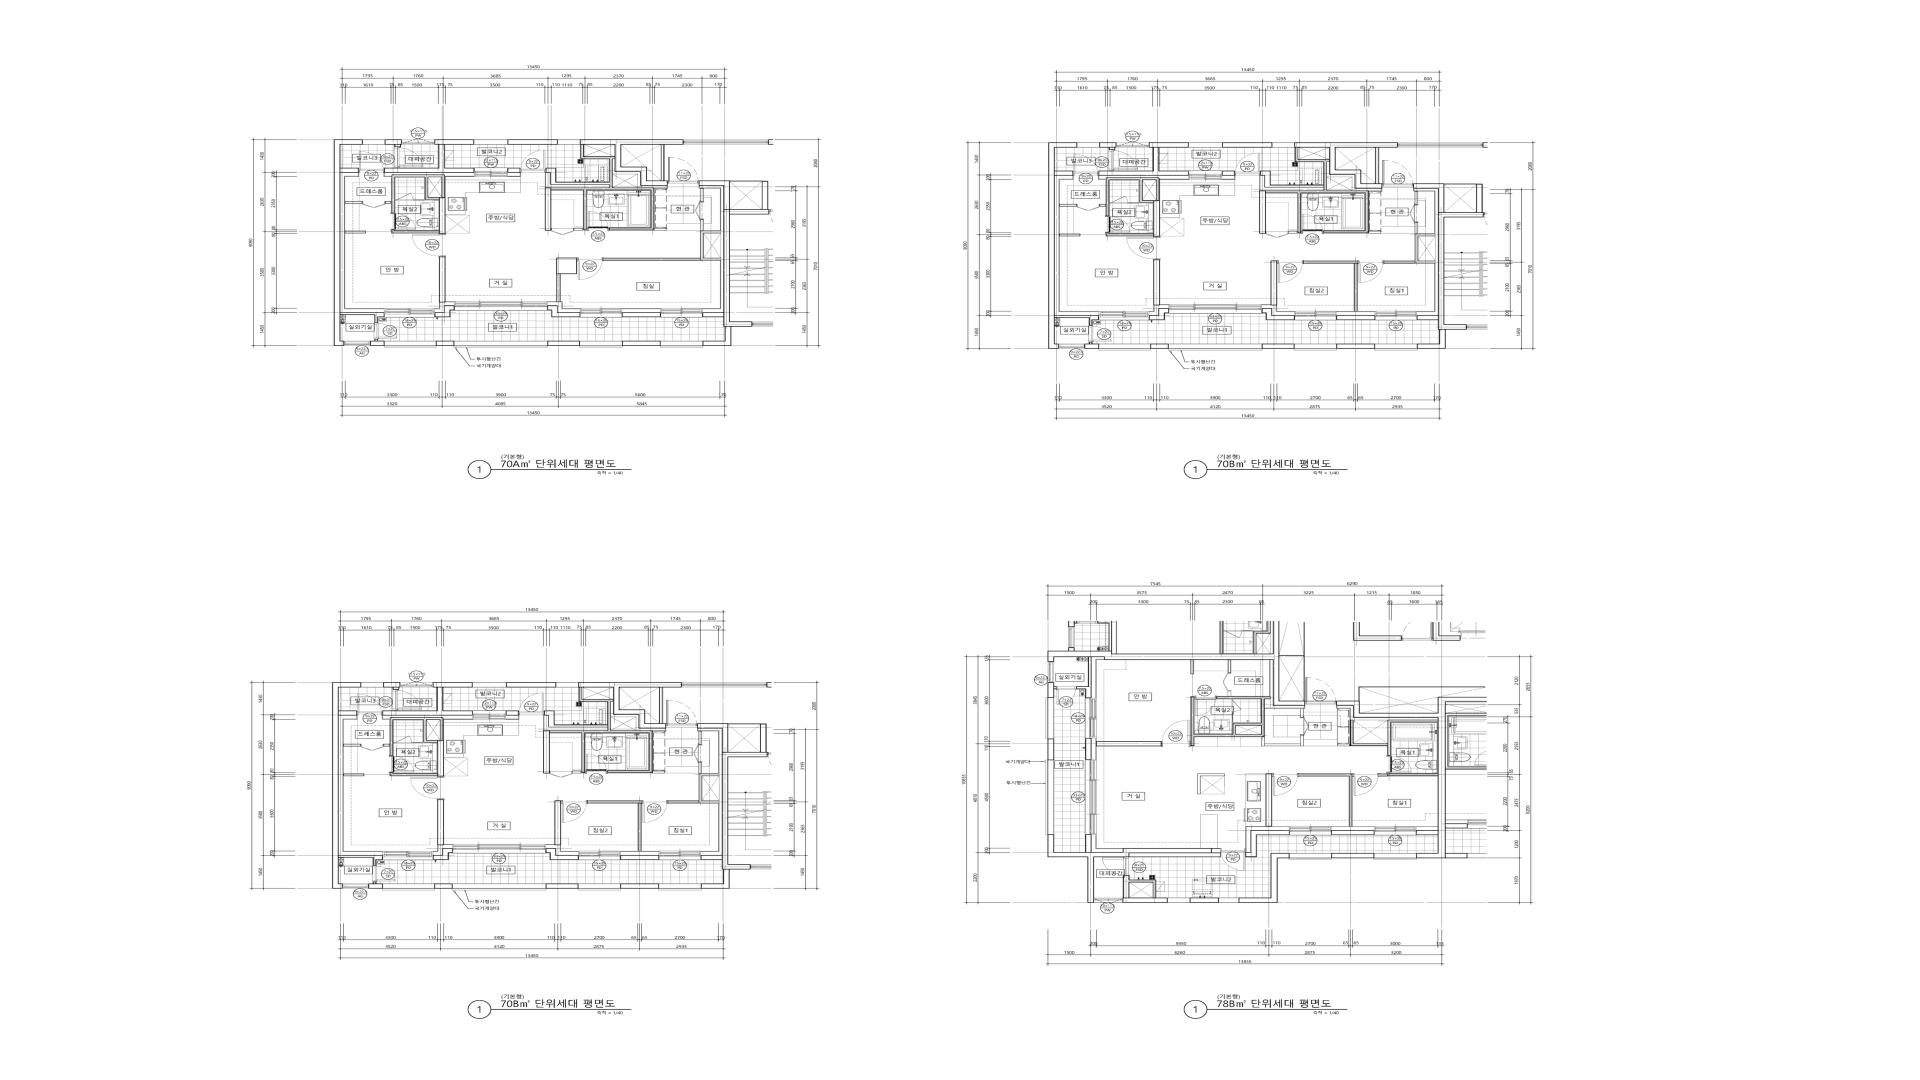door: (1382, 160, 1414, 188), (666, 700, 697, 727), (667, 157, 699, 183), (410, 776, 444, 800), (1305, 677, 1336, 703), (1127, 236, 1160, 260), (412, 234, 445, 257), (1162, 720, 1191, 746), (392, 690, 421, 711), (394, 147, 423, 168), (1109, 150, 1138, 171), (1220, 848, 1246, 871), (1277, 261, 1304, 283), (1352, 774, 1379, 796), (561, 801, 587, 823), (1358, 261, 1384, 283), (577, 258, 603, 280), (520, 150, 546, 172), (1073, 154, 1099, 176), (1272, 774, 1298, 796), (357, 694, 382, 716), (642, 801, 667, 823), (519, 693, 544, 715), (1235, 153, 1260, 175), (358, 151, 384, 172), (1102, 857, 1129, 875), (1301, 214, 1324, 233), (585, 754, 607, 773), (587, 211, 609, 230), (1194, 697, 1216, 716), (1388, 756, 1411, 774), (390, 756, 414, 773), (1106, 216, 1130, 233), (392, 213, 415, 230), (374, 323, 397, 339), (373, 866, 395, 882), (1089, 326, 1111, 342), (695, 201, 704, 221), (1300, 717, 1309, 735), (549, 771, 572, 778), (1077, 204, 1100, 211), (551, 228, 574, 235), (362, 201, 385, 208), (361, 744, 383, 751), (1266, 231, 1288, 238), (693, 745, 702, 762), (1110, 196, 1128, 204), (1410, 205, 1418, 223), (395, 193, 413, 201), (1223, 673, 1231, 691), (393, 736, 412, 743), (1232, 699, 1241, 712)
wall: (1048, 621, 1305, 706), (1336, 697, 1446, 858), (1259, 142, 1398, 234), (543, 682, 682, 773), (1048, 834, 1220, 903), (697, 723, 768, 889), (1414, 184, 1484, 349), (699, 181, 769, 346), (332, 682, 383, 889), (1048, 142, 1099, 349), (334, 140, 384, 346), (545, 145, 654, 231), (1055, 176, 1099, 316), (340, 173, 384, 313), (339, 716, 383, 855), (603, 220, 720, 261), (580, 140, 683, 186), (1191, 697, 1271, 746), (390, 717, 444, 776), (697, 729, 722, 855), (1106, 178, 1160, 236), (382, 682, 472, 716), (384, 139, 474, 173), (1099, 142, 1189, 176), (1414, 189, 1438, 315), (699, 186, 723, 312), (1298, 774, 1352, 827), (587, 801, 642, 851), (1304, 261, 1358, 311), (1239, 853, 1289, 903), (1264, 660, 1305, 717), (391, 175, 445, 213), (1327, 162, 1382, 191), (613, 159, 667, 188), (611, 702, 666, 730), (1336, 706, 1438, 720), (1123, 875, 1168, 903), (1246, 830, 1290, 857), (1246, 826, 1290, 852), (1259, 176, 1324, 191), (543, 715, 607, 730), (1197, 774, 1225, 794), (1091, 835, 1123, 852), (1091, 657, 1104, 698), (1262, 735, 1304, 746), (702, 776, 719, 801), (1418, 236, 1435, 261), (1262, 308, 1295, 320), (546, 848, 578, 860), (1098, 176, 1189, 180), (1129, 853, 1220, 857), (547, 306, 580, 317), (382, 716, 472, 720), (1129, 883, 1153, 898), (384, 173, 474, 177), (546, 844, 578, 855), (556, 258, 577, 274), (1096, 741, 1162, 746), (1262, 305, 1295, 315), (547, 302, 580, 312), (437, 800, 444, 845), (1153, 260, 1160, 305), (1266, 774, 1272, 826), (554, 801, 561, 845), (507, 139, 558, 145), (1222, 142, 1272, 148), (426, 720, 440, 740), (439, 257, 445, 303), (1271, 261, 1277, 306), (1143, 180, 1156, 200), (506, 682, 556, 687), (433, 848, 453, 860), (1149, 308, 1169, 320), (439, 197, 445, 234), (433, 844, 453, 855), (1331, 830, 1374, 835), (1332, 853, 1374, 858), (435, 306, 454, 317), (1149, 305, 1169, 315), (620, 855, 659, 860), (1336, 315, 1375, 320), (622, 312, 661, 317), (621, 884, 659, 889), (1337, 344, 1375, 349), (622, 341, 660, 346), (435, 302, 454, 312), (1331, 826, 1374, 830), (546, 884, 578, 889), (1262, 344, 1294, 349), (548, 341, 580, 346), (620, 851, 659, 855), (1336, 311, 1375, 315), (622, 308, 661, 312), (1085, 738, 1092, 760), (1190, 898, 1219, 903), (1048, 682, 1057, 698), (1375, 148, 1379, 184), (392, 230, 439, 233), (383, 682, 400, 690), (1099, 142, 1116, 150), (1048, 739, 1054, 760), (385, 140, 402, 147), (556, 274, 560, 302), (1091, 738, 1096, 760), (659, 687, 662, 723), (508, 168, 520, 177), (661, 145, 664, 181), (1084, 342, 1099, 349), (368, 882, 382, 889), (370, 339, 384, 346), (1384, 261, 1415, 264), (434, 884, 452, 889), (436, 341, 454, 346), (1416, 826, 1438, 830), (1151, 344, 1168, 349), (506, 711, 519, 716), (1222, 171, 1235, 176), (667, 801, 699, 803), (700, 188, 704, 202), (506, 716, 519, 720), (1222, 176, 1235, 180), (345, 201, 362, 204), (345, 231, 366, 233), (1191, 660, 1194, 674), (1228, 660, 1231, 673), (1444, 184, 1477, 185), (574, 228, 584, 231), (652, 771, 665, 773), (1369, 231, 1381, 233), (654, 228, 666, 230), (1338, 744, 1350, 746), (383, 744, 390, 747), (385, 201, 392, 204), (572, 771, 582, 773), (1288, 231, 1298, 233), (1100, 204, 1106, 207), (1228, 691, 1231, 697), (1128, 203, 1139, 204), (413, 200, 424, 201), (412, 742, 422, 743), (1232, 712, 1233, 722), (728, 724, 760, 724), (730, 181, 762, 181)
window: (454, 301, 547, 311), (453, 844, 546, 853), (1085, 760, 1096, 835), (1169, 305, 1262, 313), (1168, 344, 1262, 351), (454, 341, 548, 348), (1046, 760, 1054, 835), (452, 884, 546, 890), (384, 308, 435, 317), (383, 851, 433, 860), (1099, 311, 1149, 320), (1085, 698, 1096, 738), (659, 851, 701, 860), (578, 851, 620, 860), (1375, 311, 1417, 320), (1295, 311, 1337, 320), (580, 308, 622, 317), (1289, 826, 1331, 835), (1374, 826, 1416, 835), (661, 308, 702, 317), (1099, 344, 1151, 351), (384, 341, 436, 348), (1046, 698, 1054, 739), (382, 884, 435, 890), (472, 711, 506, 720), (474, 168, 508, 177), (1294, 344, 1337, 351), (1375, 344, 1418, 351), (660, 341, 703, 348), (1289, 853, 1332, 860), (1374, 853, 1417, 860), (1189, 171, 1222, 180), (580, 341, 622, 348), (578, 884, 621, 890), (658, 884, 701, 890), (474, 139, 508, 145), (1189, 142, 1222, 148), (1116, 142, 1149, 148), (402, 138, 434, 144), (1094, 898, 1123, 904), (472, 682, 506, 687), (400, 682, 433, 687), (1272, 142, 1295, 148), (361, 682, 383, 688), (1077, 142, 1099, 148), (558, 139, 580, 145), (344, 341, 370, 346), (343, 884, 368, 889), (1059, 344, 1084, 349), (1048, 662, 1054, 682), (556, 682, 579, 687), (363, 140, 385, 145), (1168, 898, 1190, 903), (1219, 898, 1239, 903)
